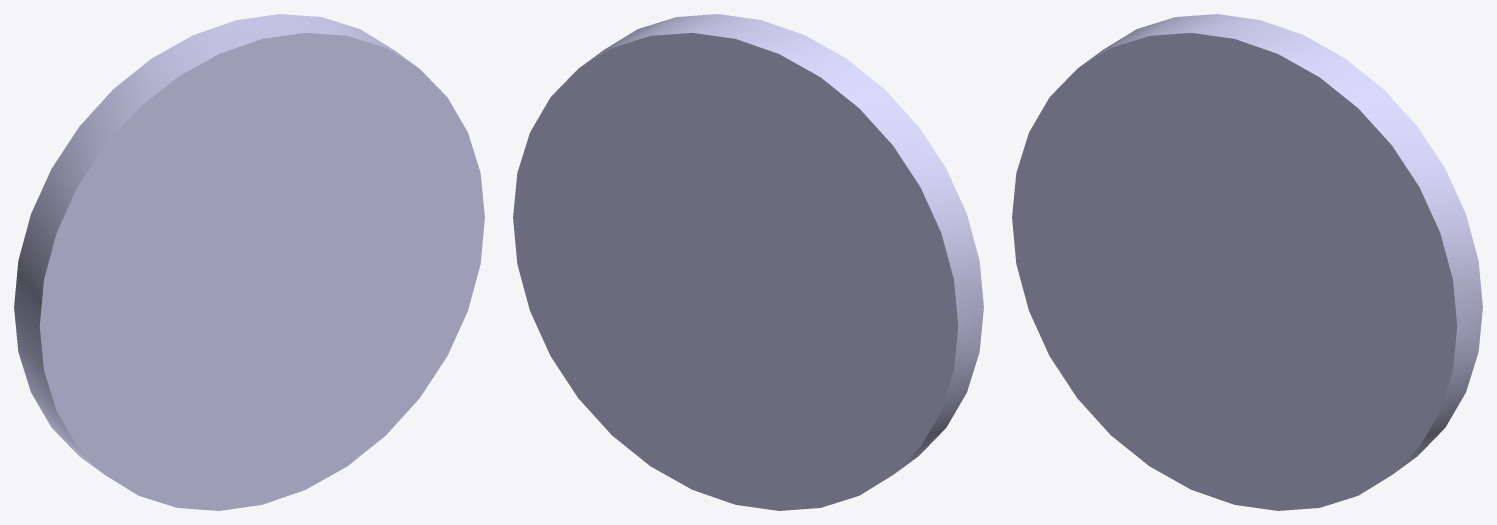
3 renders of one model, left to right at view 1: azimuth 30°, elevation 25°; view 2: azimuth 150°, elevation 25°; view 3: azimuth 330°, elevation 25°, orthographic.
Size of the model in its own units: 0.1 by 0.1 by 0.01.
